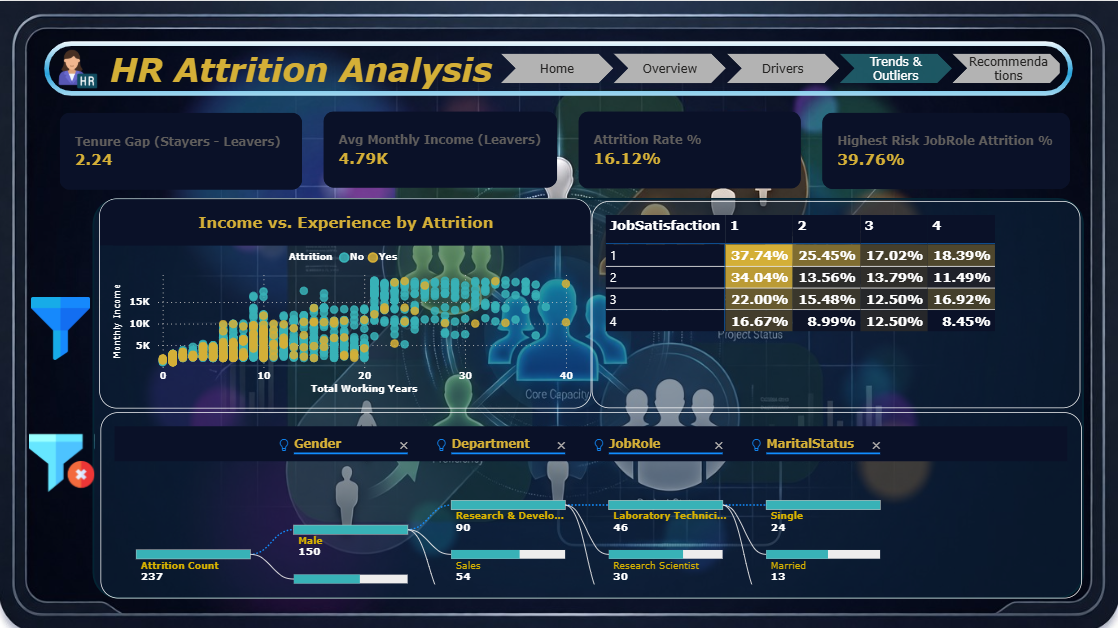

Layout of this report page (visuals, bound fields, positions):
{"tool":"powerbi","page":{"name":"Trends & Outliers","canvas":[1280,720],"ordinal":3},"visuals":[{"type":"textbox","box":[123.1,49.5,451.2,56.7],"z":0},{"type":"image","box":[68.8,48.3,45.8,57.9],"z":1000},{"type":"cardVisual","fields":{"Data":["Measure.Tenure Gap (Stayers - Leavers)"]},"box":[58.8,115,301.2,112.5],"z":2000},{"type":"cardVisual","fields":{"Data":["Measure.Avg Monthly Income (Leavers)"]},"box":[360,113.8,291.2,111.2],"z":3000},{"type":"cardVisual","fields":{"Data":["Measure.Attrition Rate %"]},"box":[651.2,113.8,278.7,112.2],"z":4000},{"type":"cardVisual","fields":{"Data":["Measure.Highest Risk JobRole Attrition %"]},"box":[930,115.3,307.3,111.3],"z":5000},{"type":"pageNavigator","box":[574.3,60.3,639.4,35],"z":6000},{"type":"scatterChart","title":"Income vs. Experience by Attrition","fields":{"Category":["Fact_Employee.EmployeeNumber"],"Series":["Dim_Attrition.Attrition"],"X":["Sum(Fact_Employee.TotalWorkingYears)"],"Y":["Sum(Fact_Employee.MonthlyIncome)"]},"box":[115,225.7,562.1,240.1],"z":7000},{"type":"decompositionTreeVisual","fields":{"Analyze":["Measure.Attrition Count"],"ExplainBy":["Dim_Gender.Gender","Dim_Department.Department","Dim_JobRole.JobRole","Dim_MaritalStatus.MaritalStatus"]},"box":[116.4,470.1,1121.3,212.8],"z":8000},{"type":"pivotTable","fields":{"Columns":["Fact_Employee.EnvironmentSatisfaction"],"Rows":["Fact_Employee.JobSatisfaction"],"Values":["Measure.Attrition Rate %"]},"box":[679.2,228,558.6,236.5],"z":9000},{"type":"actionButton","title":"Clear Filter","box":[31.4,478.6,82.9,98.6],"z":14000},{"type":"actionButton","title":"Open Filter","box":[31.4,334.3,82.9,80],"z":14500}]}

Visuals, with their boxes in screenshot pixels (x1, y1, x2, y2), scaled from the page's 1280x720 canvas onto the 1118x628 screenshot:
textbox: {"x1": 108, "y1": 43, "x2": 502, "y2": 93}
image: {"x1": 60, "y1": 42, "x2": 100, "y2": 93}
cardVisual - Measure.Tenure Gap (Stayers - Leavers): {"x1": 51, "y1": 100, "x2": 314, "y2": 198}
cardVisual - Measure.Avg Monthly Income (Leavers): {"x1": 314, "y1": 99, "x2": 569, "y2": 196}
cardVisual - Measure.Attrition Rate %: {"x1": 569, "y1": 99, "x2": 812, "y2": 197}
cardVisual - Measure.Highest Risk JobRole Attrition %: {"x1": 812, "y1": 101, "x2": 1081, "y2": 198}
pageNavigator: {"x1": 502, "y1": 53, "x2": 1060, "y2": 83}
"Income vs. Experience by Attrition" scatterChart: {"x1": 100, "y1": 197, "x2": 591, "y2": 406}
decompositionTreeVisual - Measure.Attrition Count x Dim_Gender.Gender: {"x1": 102, "y1": 410, "x2": 1081, "y2": 596}
pivotTable - Fact_Employee.EnvironmentSatisfaction x Fact_Employee.JobSatisfaction: {"x1": 593, "y1": 199, "x2": 1081, "y2": 405}
"Clear Filter" actionButton: {"x1": 27, "y1": 417, "x2": 100, "y2": 503}
"Open Filter" actionButton: {"x1": 27, "y1": 292, "x2": 100, "y2": 361}
